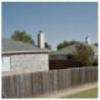chimneys: (38, 30, 45, 49), (86, 34, 92, 46)
